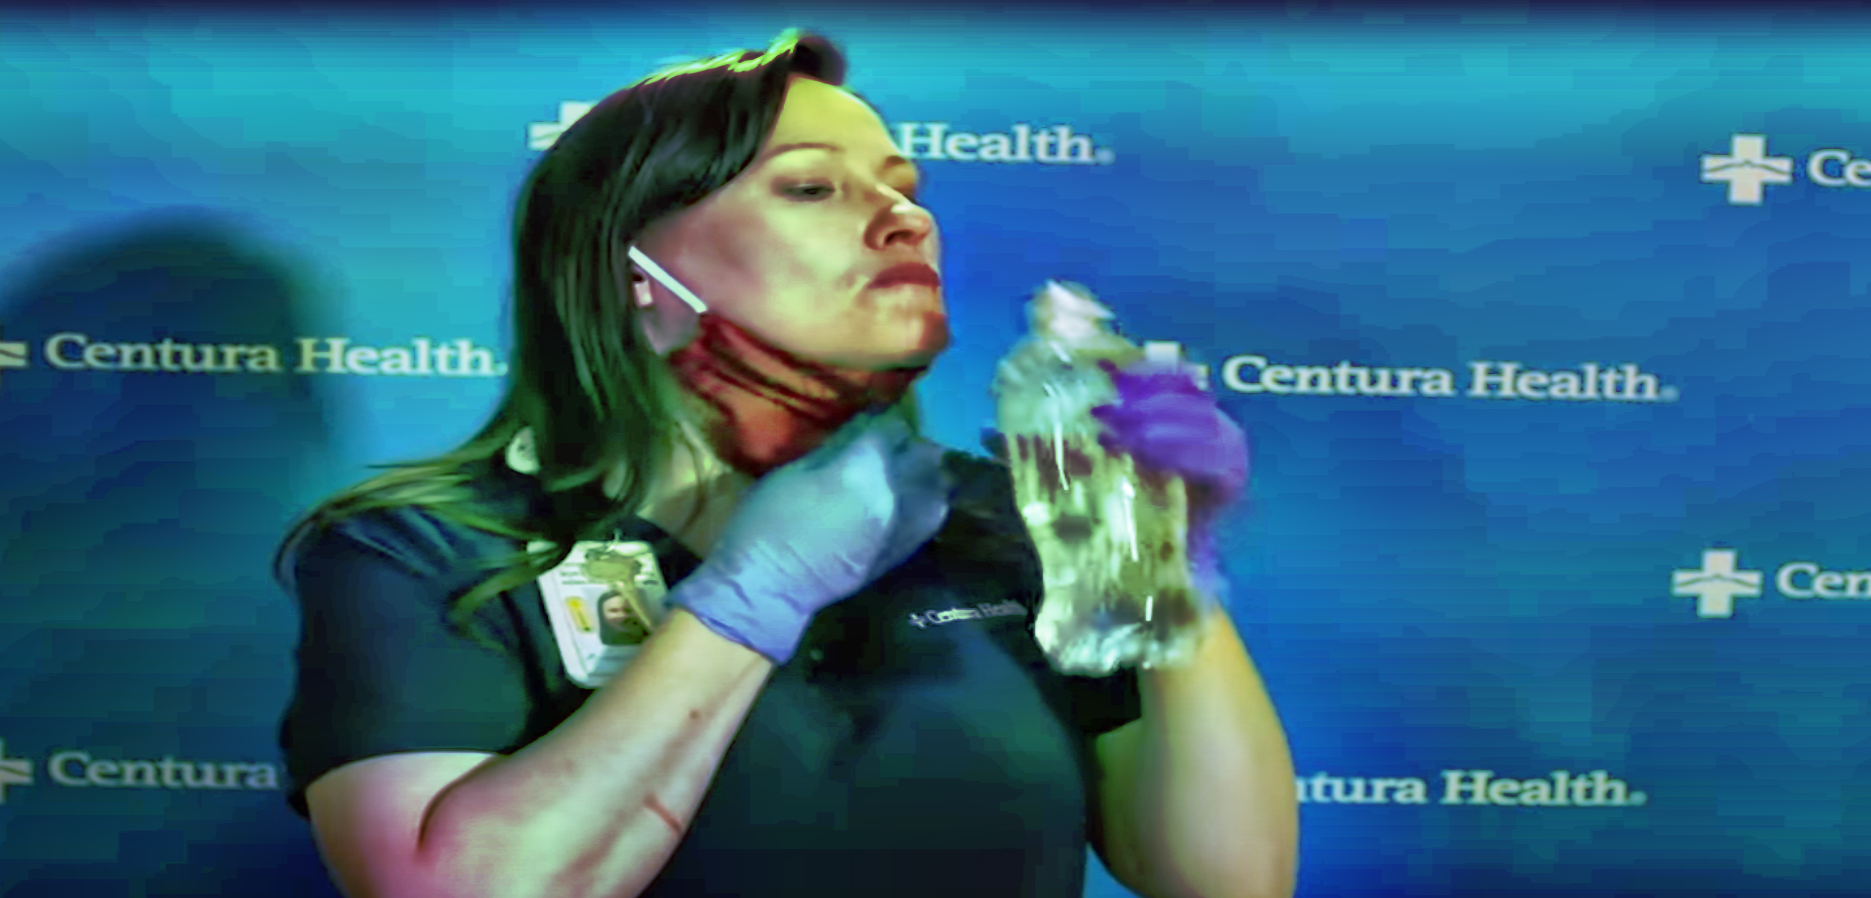mask_weared_incorrect: (516, 40, 950, 477)
